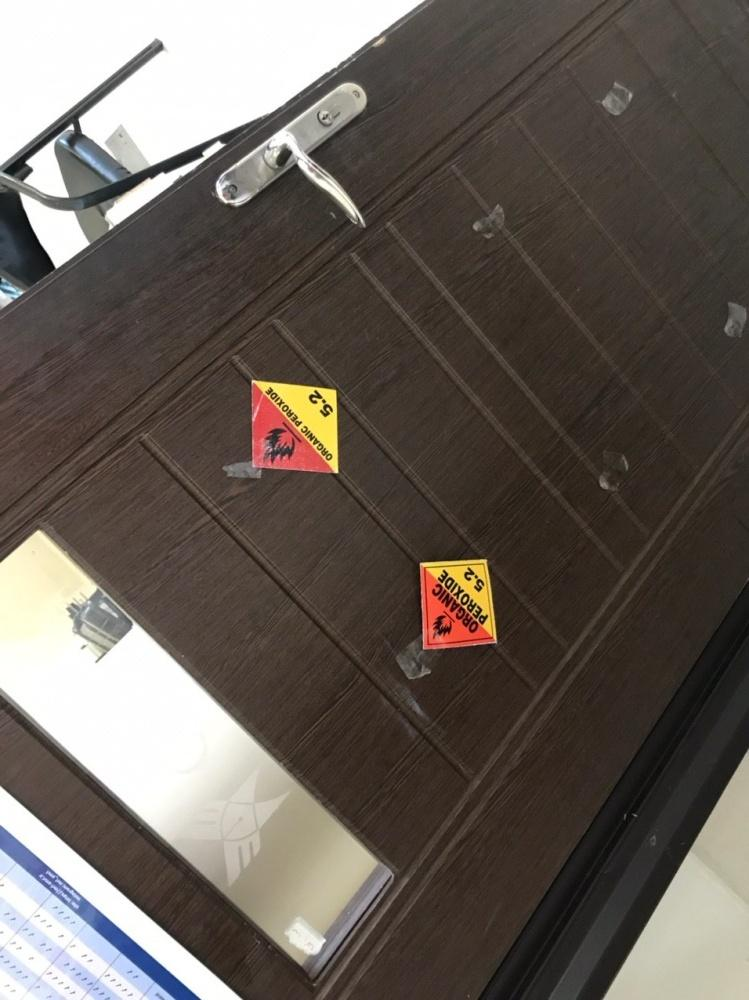organic-peroxide: (250, 377, 340, 476), (418, 558, 497, 649)
